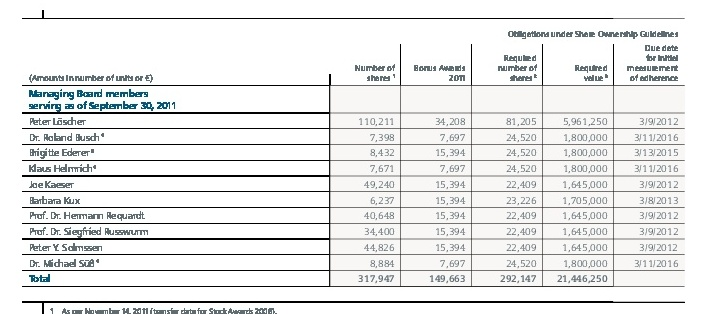table: (0, 0, 701, 314)
